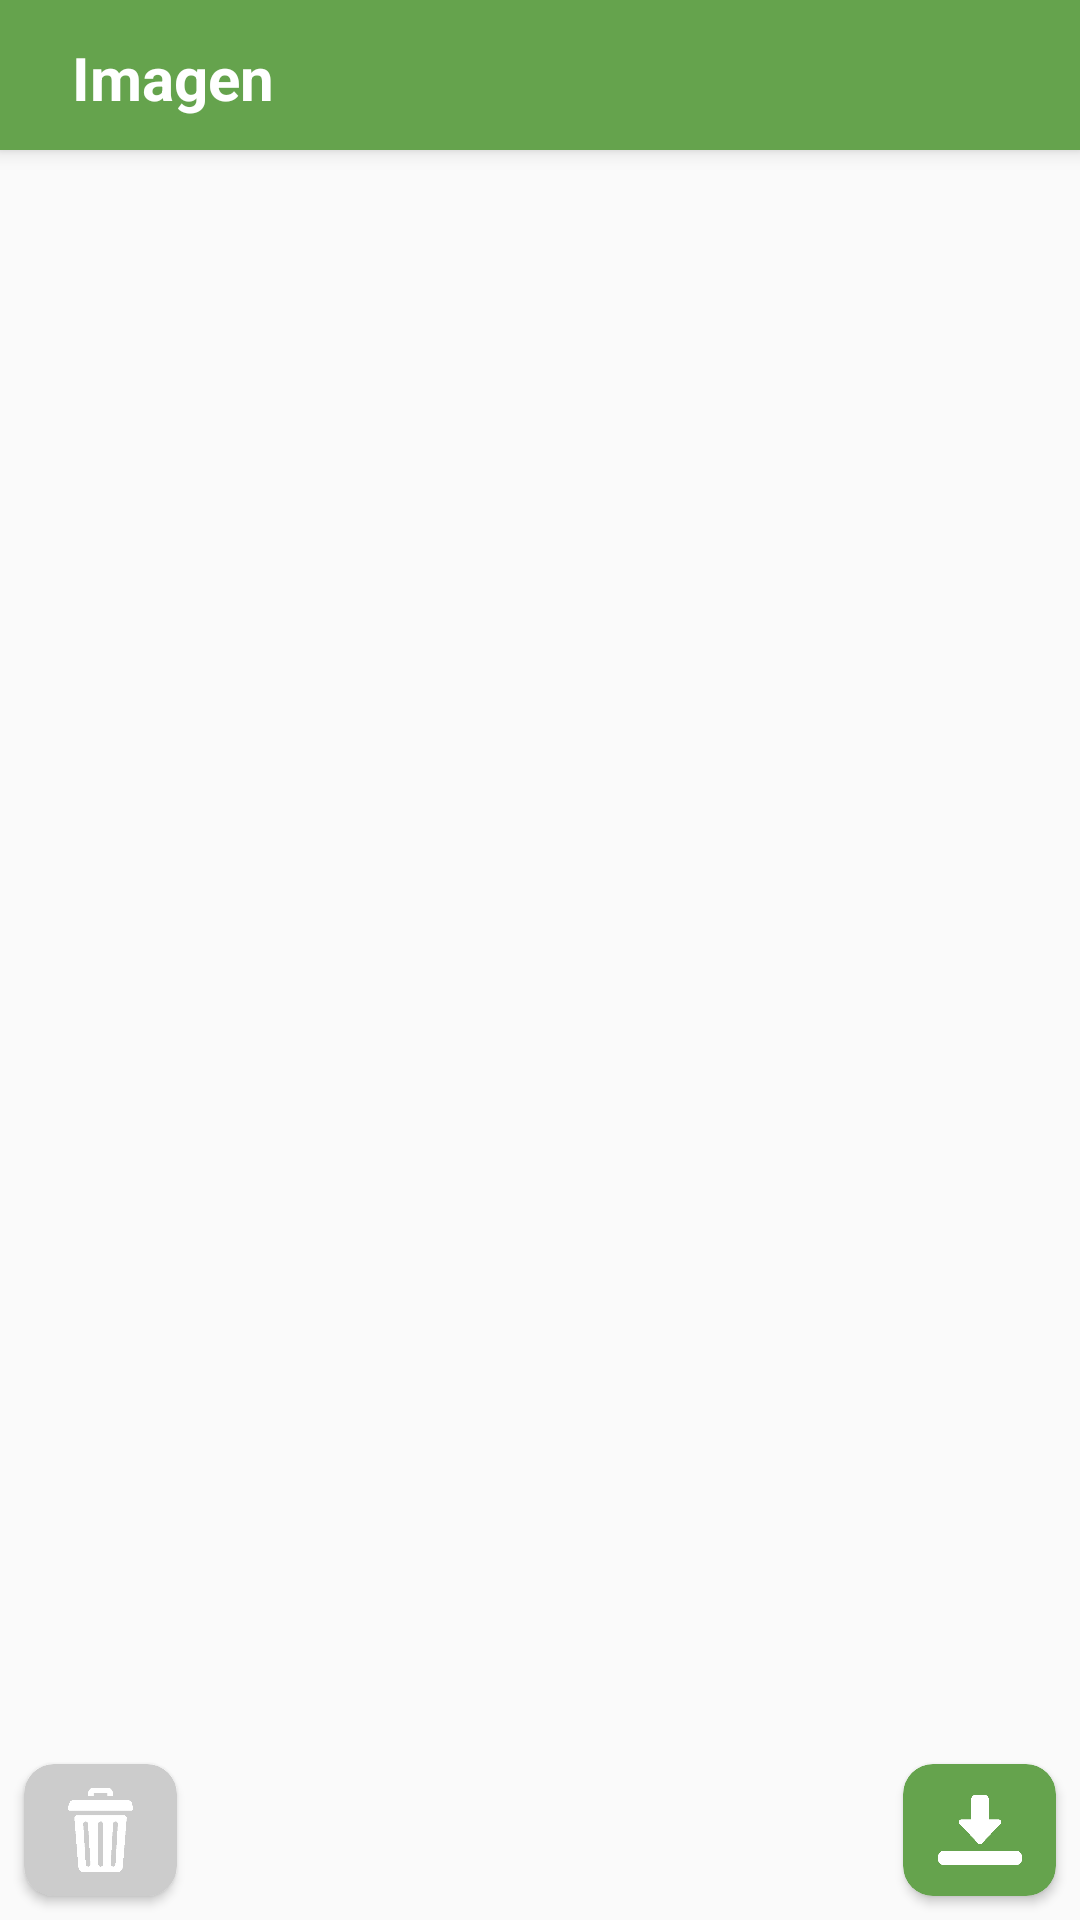

Named icons in this screenshot (1080px×1920px) and their bounding boxes, (x1, y1, x2, y2):
descarga: (903, 1764, 1056, 1896)
eliminar: (24, 1764, 177, 1896)
